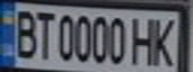0: (106, 12, 130, 65), (54, 10, 75, 63), (72, 11, 93, 63), (90, 11, 109, 65)
B: (9, 6, 39, 60)
H: (127, 14, 160, 66)
K: (148, 14, 181, 68)
T: (33, 7, 57, 61)
